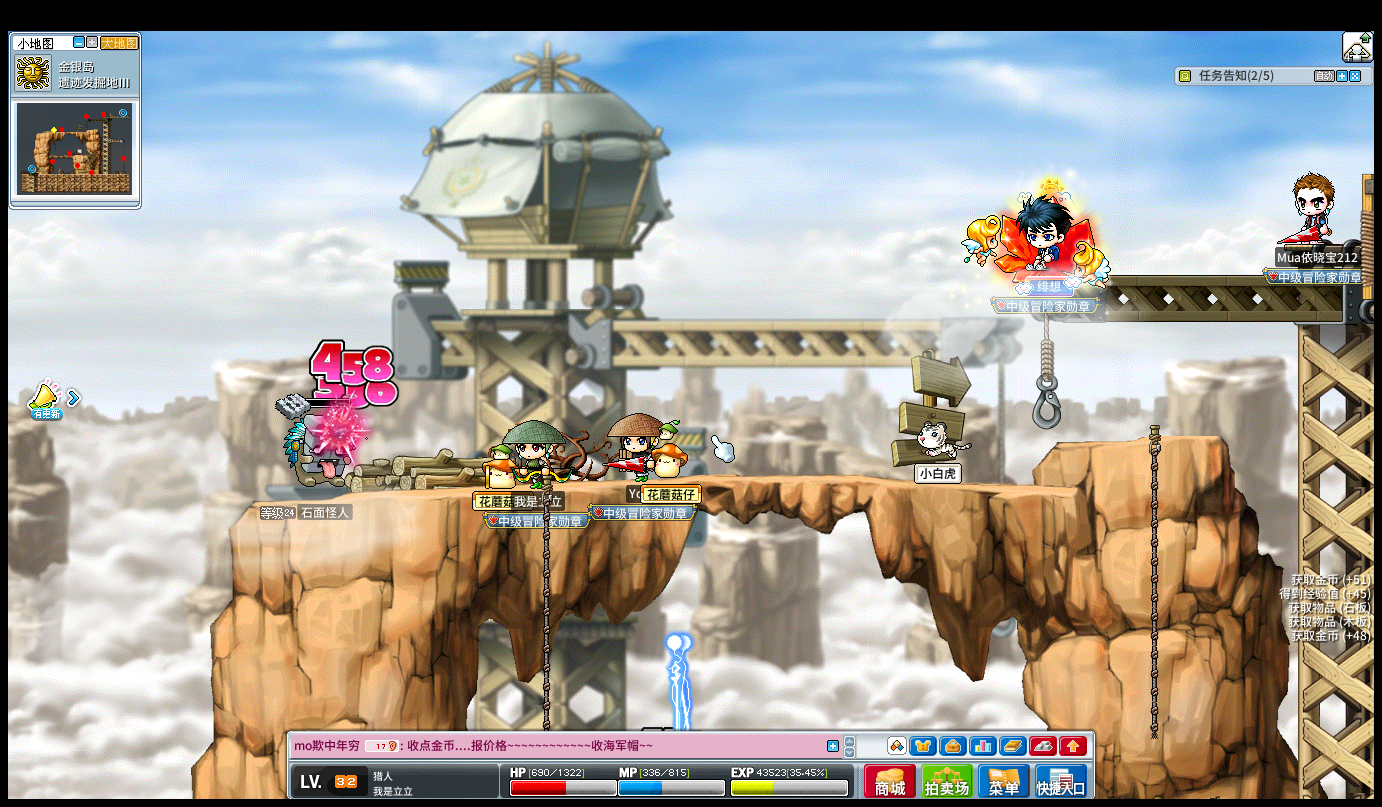floor: (250, 471, 1141, 492), (1054, 431, 1225, 447)
monster: (281, 412, 354, 497)
rope: (1145, 418, 1161, 739), (539, 475, 551, 683), (1040, 314, 1053, 423)
